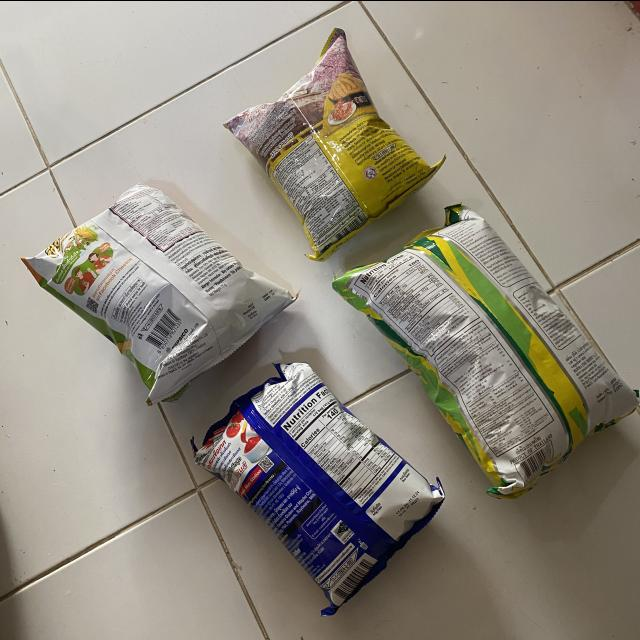plastik: (333, 204, 639, 498), (193, 363, 444, 612), (22, 184, 294, 403), (224, 28, 444, 259)
